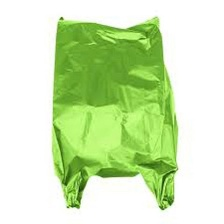plastic_bag: (38, 6, 185, 220)
